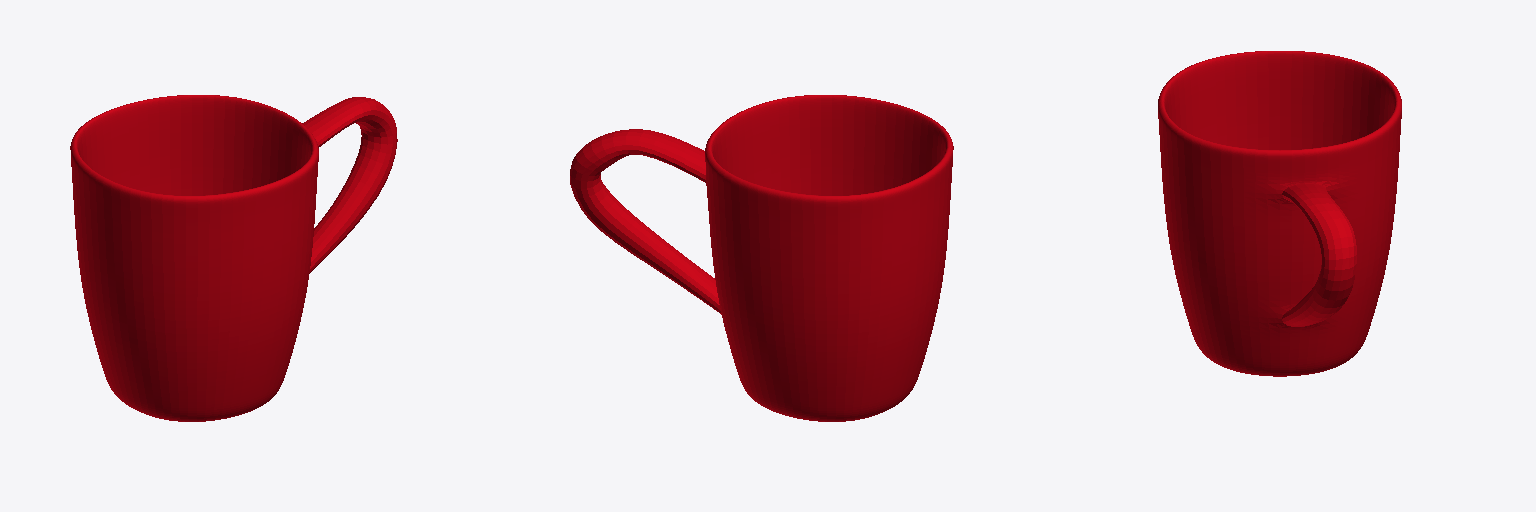
The model's file is mug.obj.
3 renders of one model, left to right at view 1: azimuth 30°, elevation 25°; view 2: azimuth 150°, elevation 25°; view 3: azimuth 270°, elevation 25°, orthographic.
Parts seen in each view (by area): view 1: Cube; view 2: Cube; view 3: Cube.
Part boxes in pixels (bbox=[...]): Cube: bbox=[70, 95, 397, 421]; Cube: bbox=[570, 95, 953, 421]; Cube: bbox=[1158, 51, 1401, 376].
Size of the model in its own units: 279 by 200 by 177.